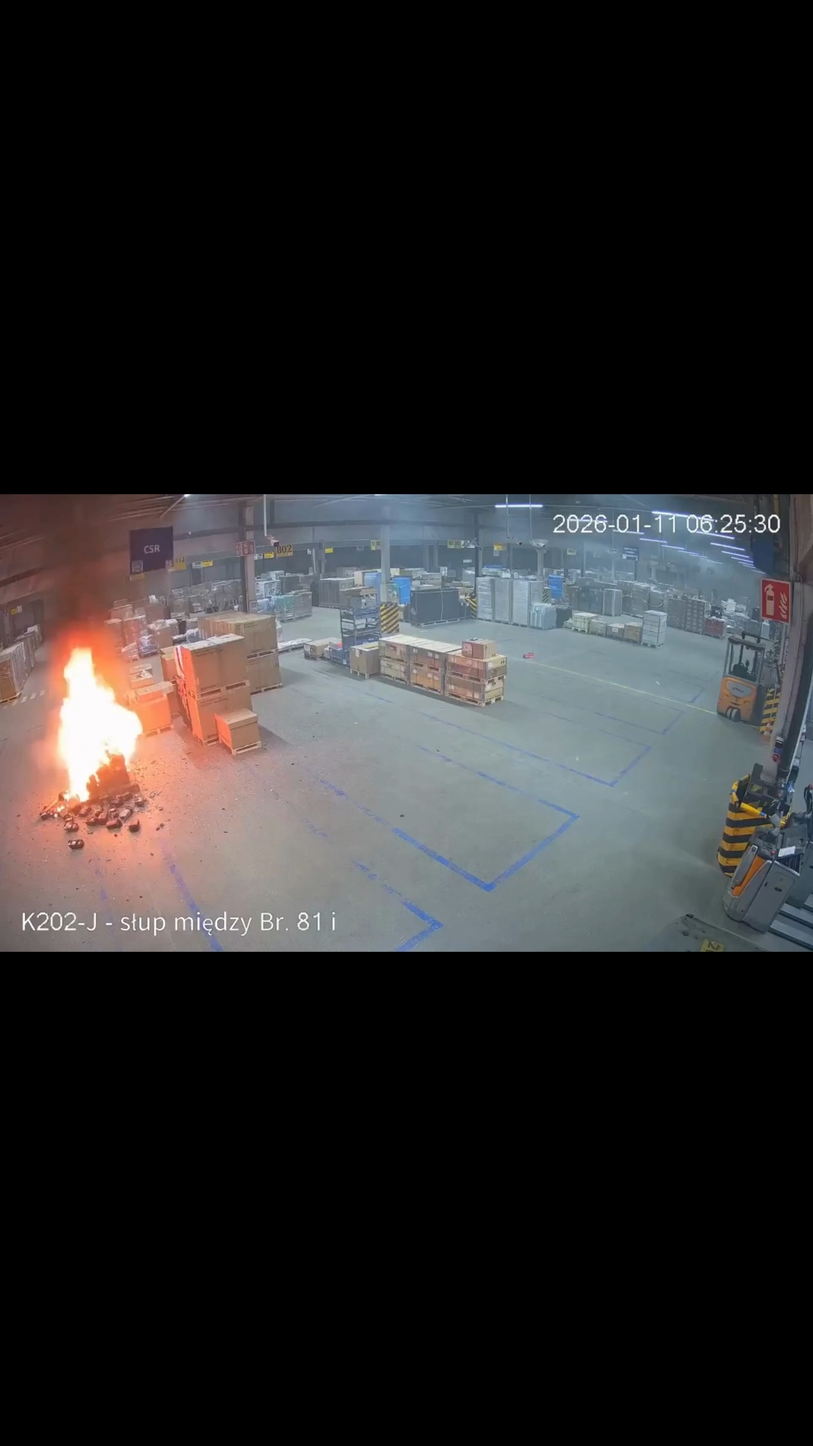fire: (52, 641, 146, 808)
smoke: (23, 496, 161, 651)
